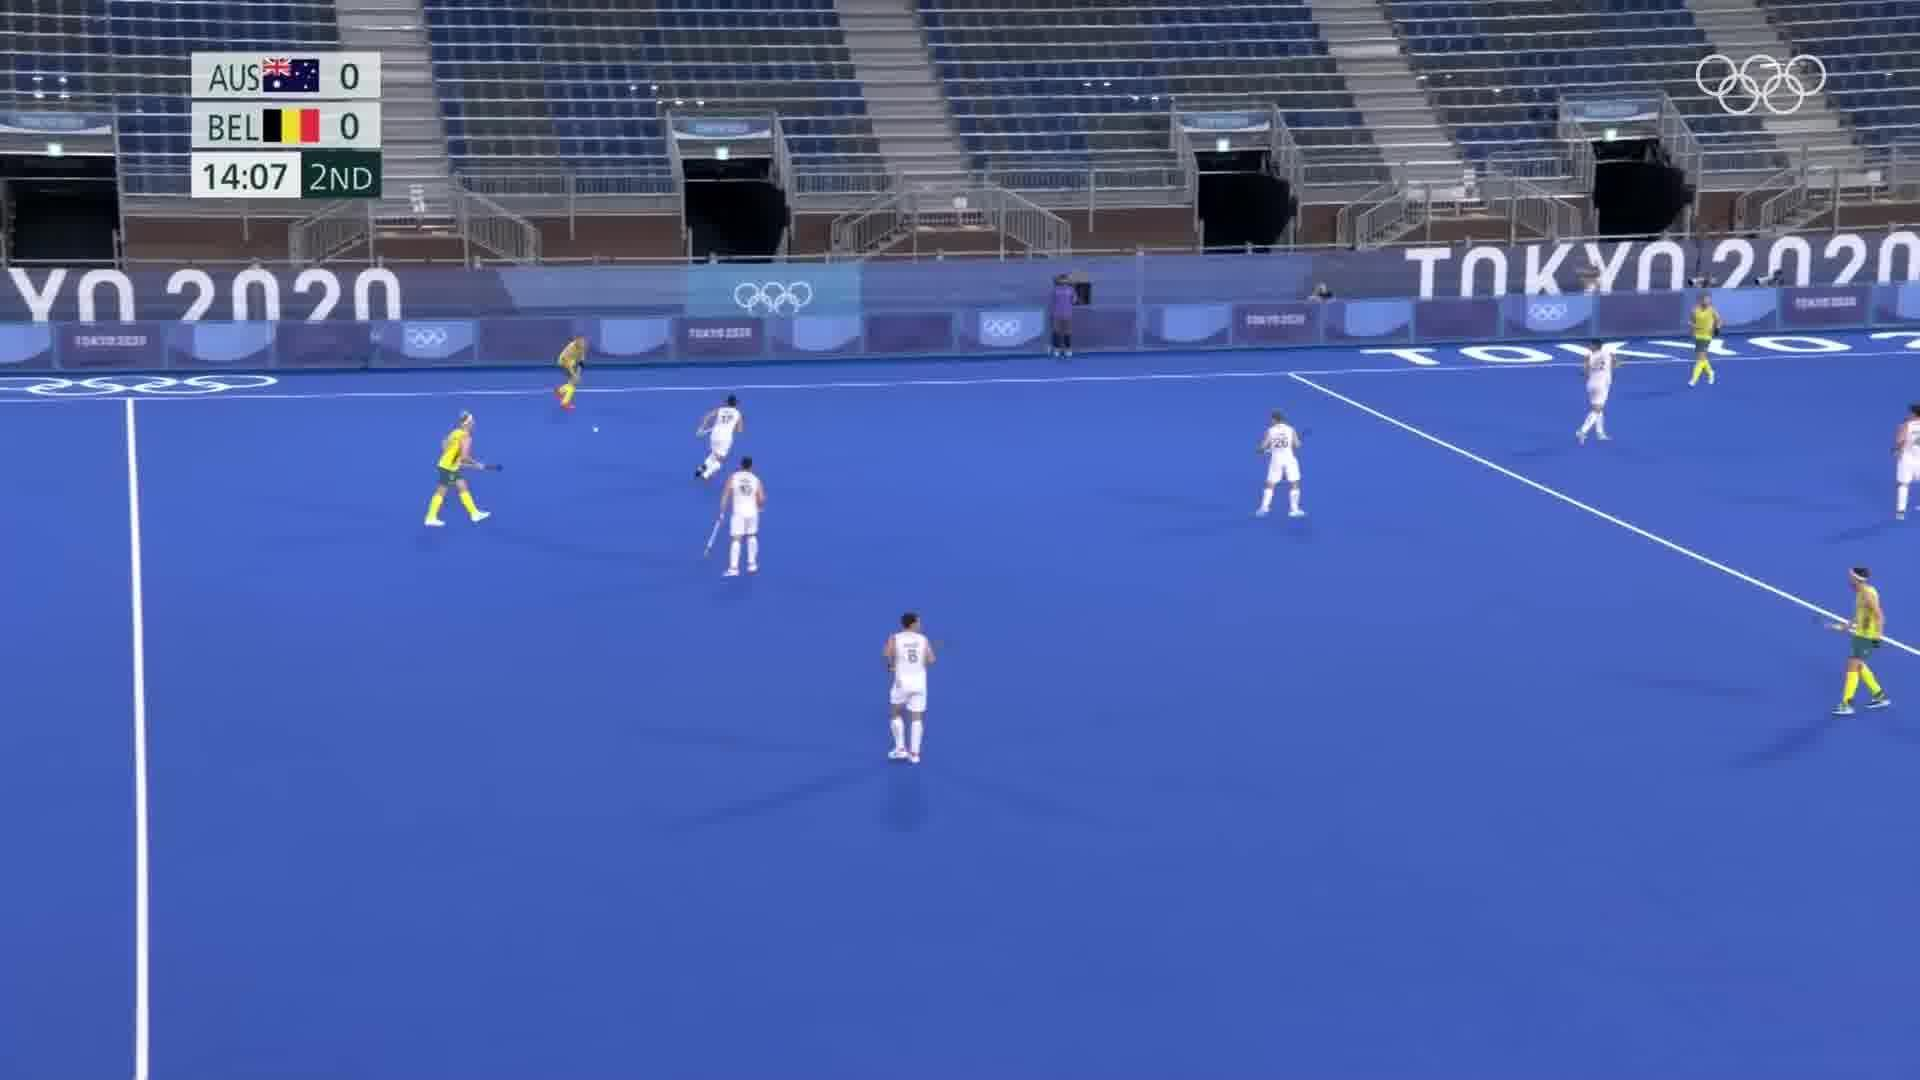ball: (590, 425, 604, 437)
